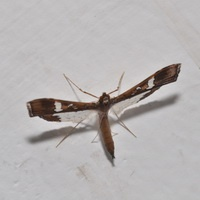insect: (27, 64, 180, 163)
